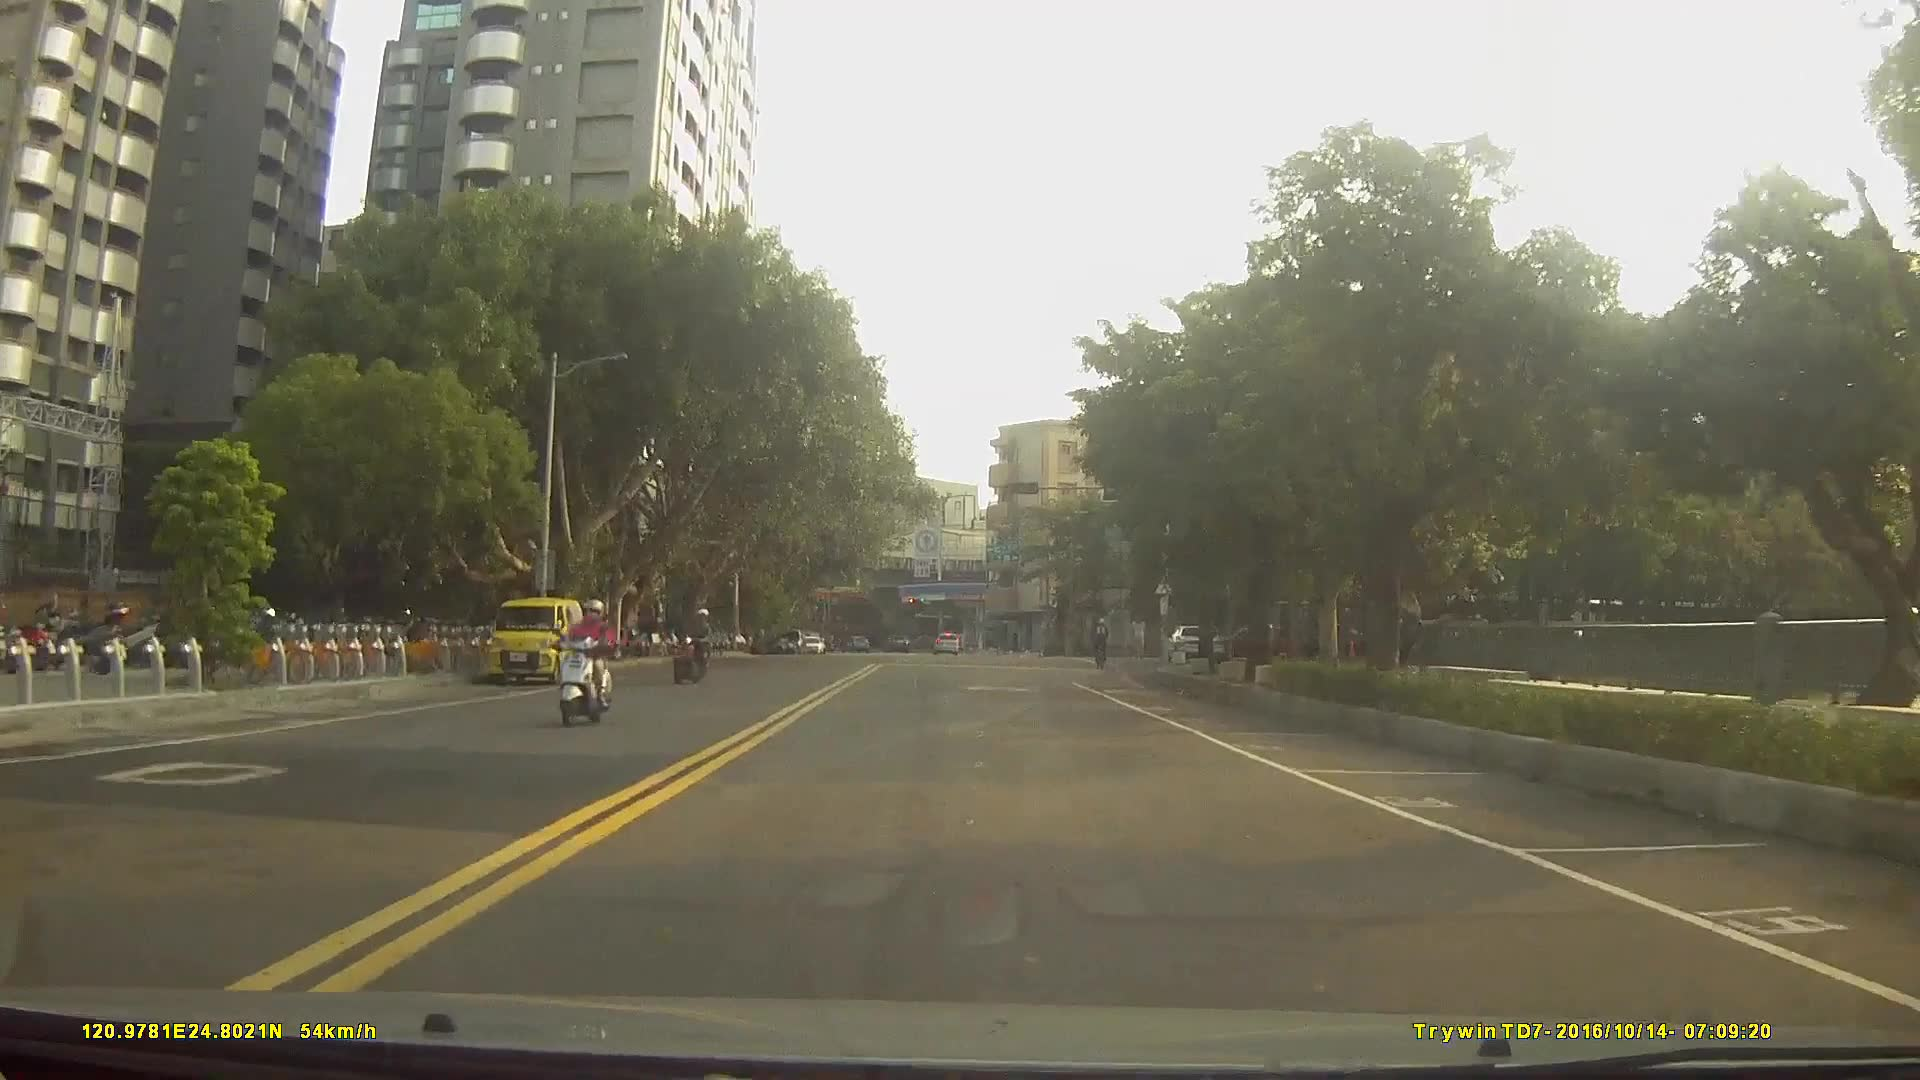pedestrian: (1127, 611, 1147, 660)
rider: (552, 597, 618, 725), (668, 606, 713, 683), (1091, 619, 1112, 673)
vehicle: (1164, 622, 1223, 663), (934, 631, 959, 653)
